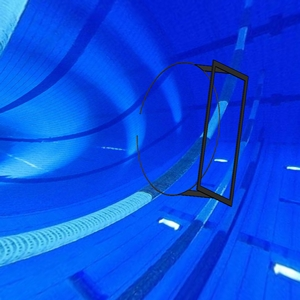circle: (135, 59, 250, 208)
